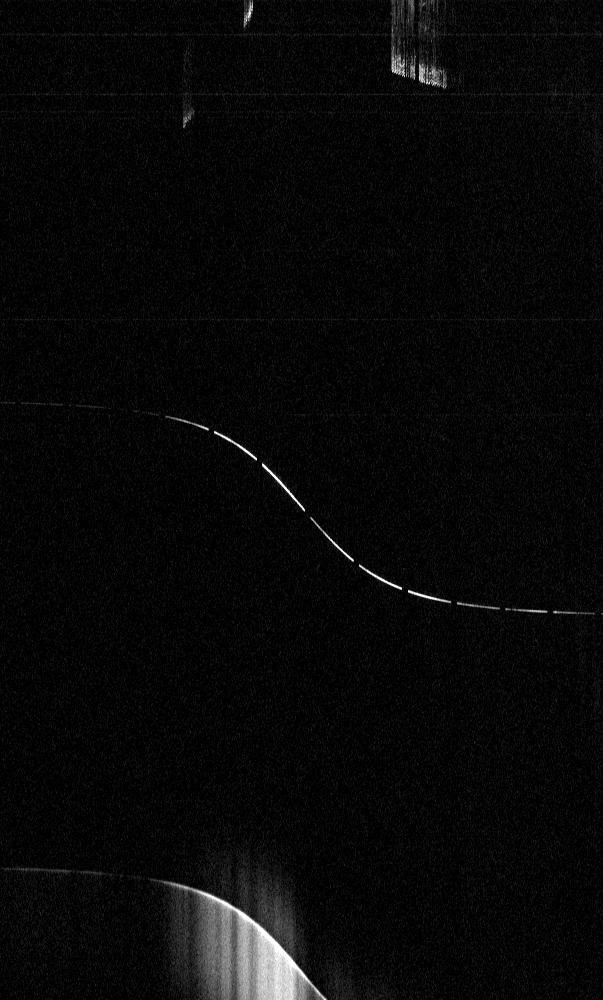signal: (0, 0, 602, 999)
